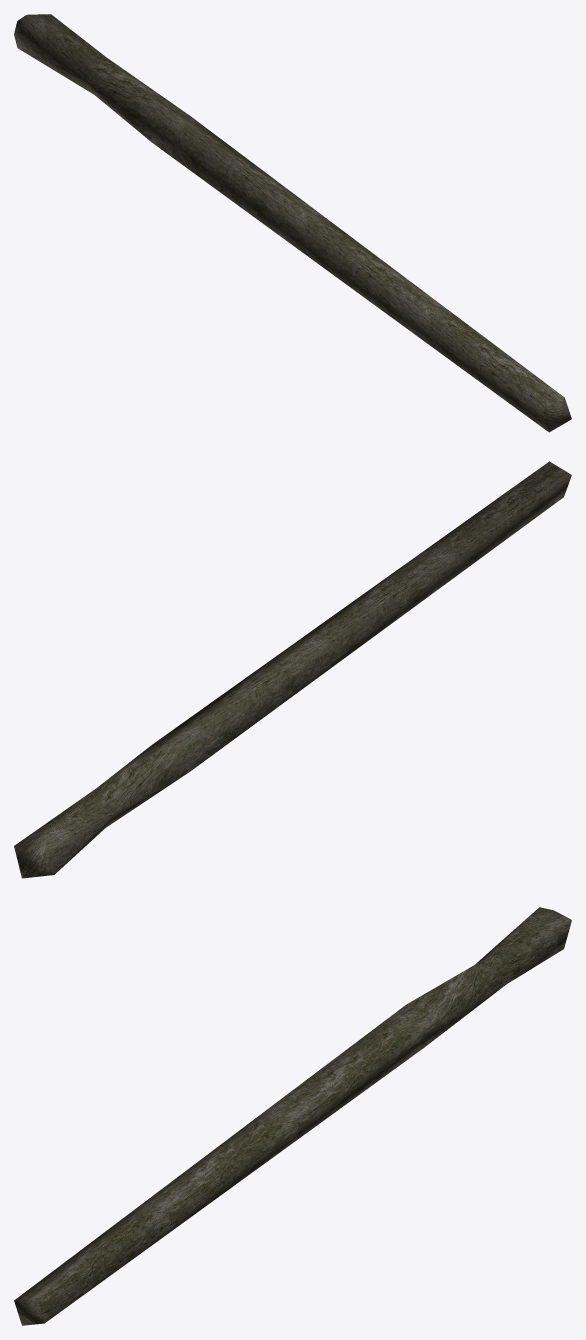
The model's file is TI_Pillar_03.fbx.
3 renders of one model, top to bottom at view 1: azimuth 30°, elevation 25°; view 2: azimuth 150°, elevation 25°; view 3: azimuth 330°, elevation 25°, orthographic.
Visible parts, largest first — view 1: TI_Pillar_03; view 2: TI_Pillar_03; view 3: TI_Pillar_03.
Part boxes in pixels (bbox=[...]): TI_Pillar_03: bbox=[14, 14, 571, 432]; TI_Pillar_03: bbox=[14, 461, 571, 878]; TI_Pillar_03: bbox=[14, 907, 571, 1325].
Size of the model in its own units: 0.5104 by 0.5116 by 11.76.
